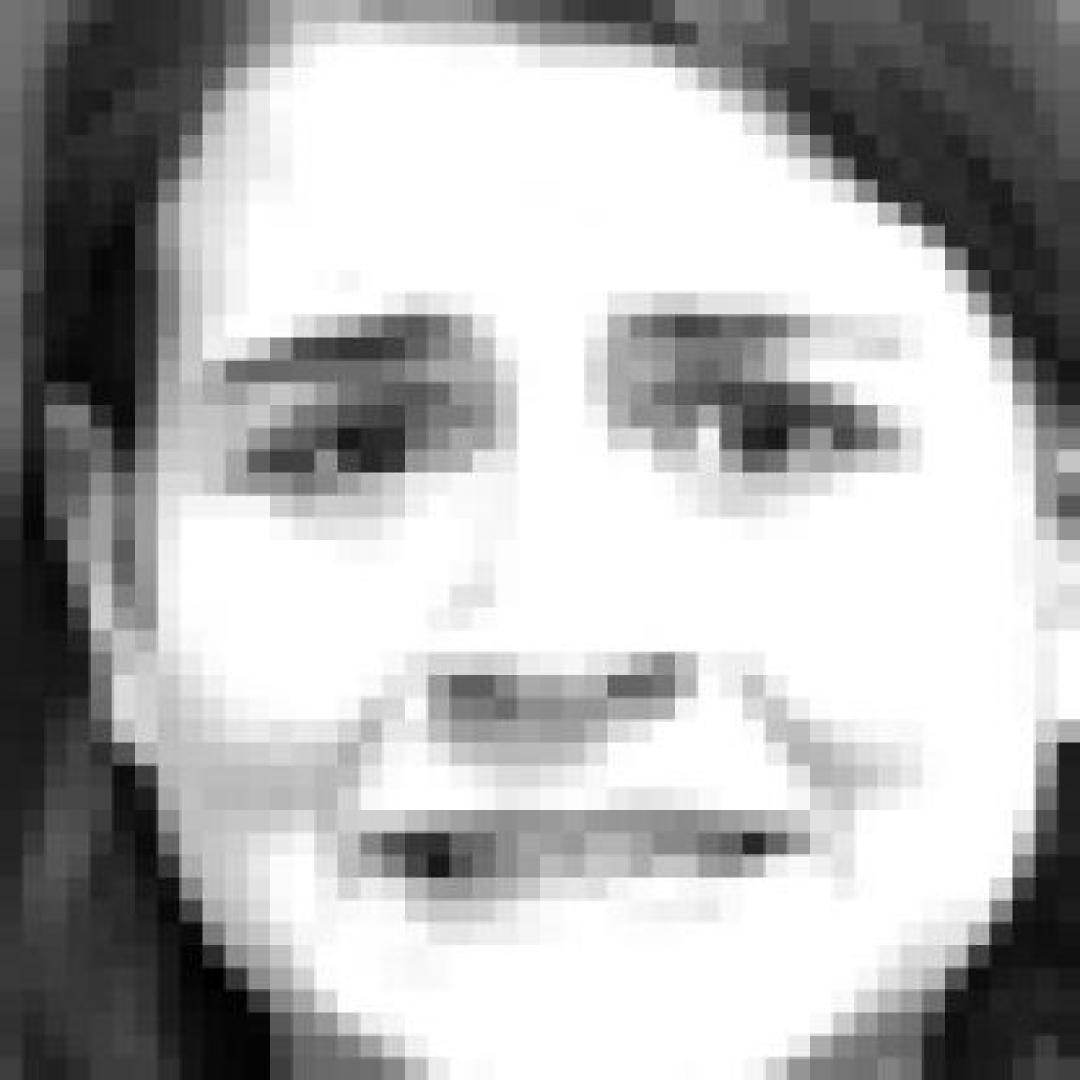fear: (0, 0, 890, 1080)
